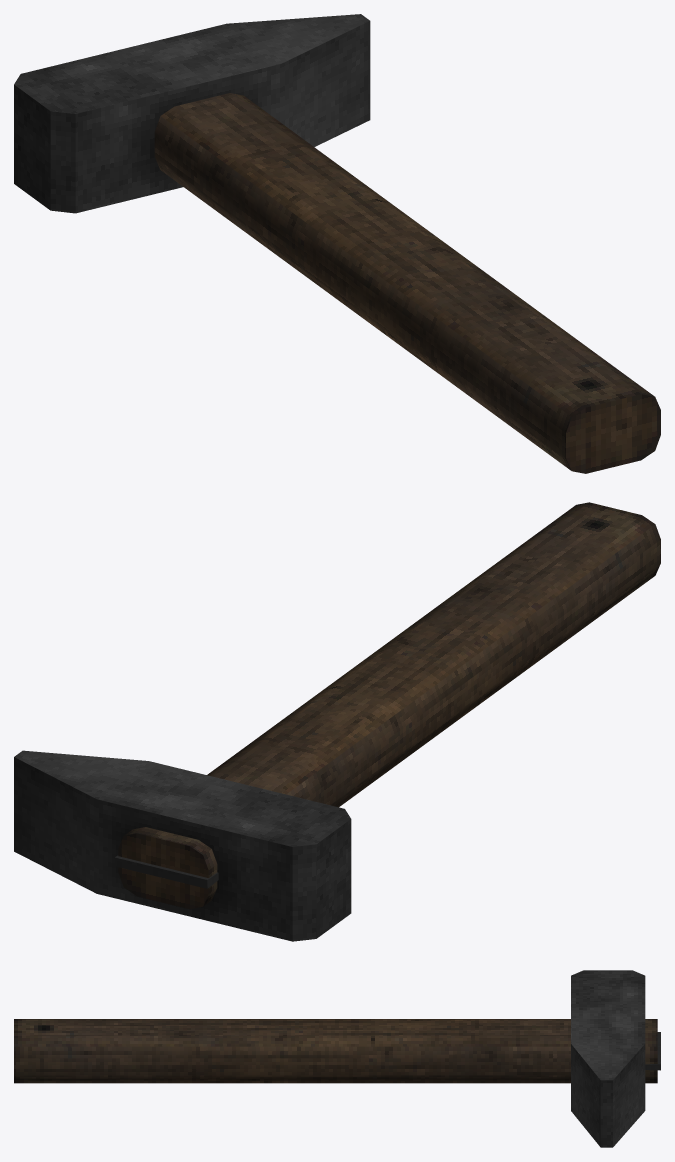
The model's file is hammer_mx_2_1.glb.
The picture shows the model from 3 angles, top to bottom: view 1: azimuth 30°, elevation 25°; view 2: azimuth 150°, elevation 25°; view 3: azimuth 270°, elevation 25°; orthographic projection. The views are drawn at different scales.
Parts seen in each view (by area): view 1: hammer_mx_2_1; view 2: hammer_mx_2_1; view 3: hammer_mx_2_1.
Boxes of the visible parts, left/top/right/bottom form: hammer_mx_2_1: left=14, top=14, right=660, bottom=473; hammer_mx_2_1: left=14, top=502, right=660, bottom=941; hammer_mx_2_1: left=14, top=970, right=660, bottom=1147.
Bounding box in the file's own units: 0.21 × 0.06 × 0.5227.
Materials: 1 (1 with a texture image).
